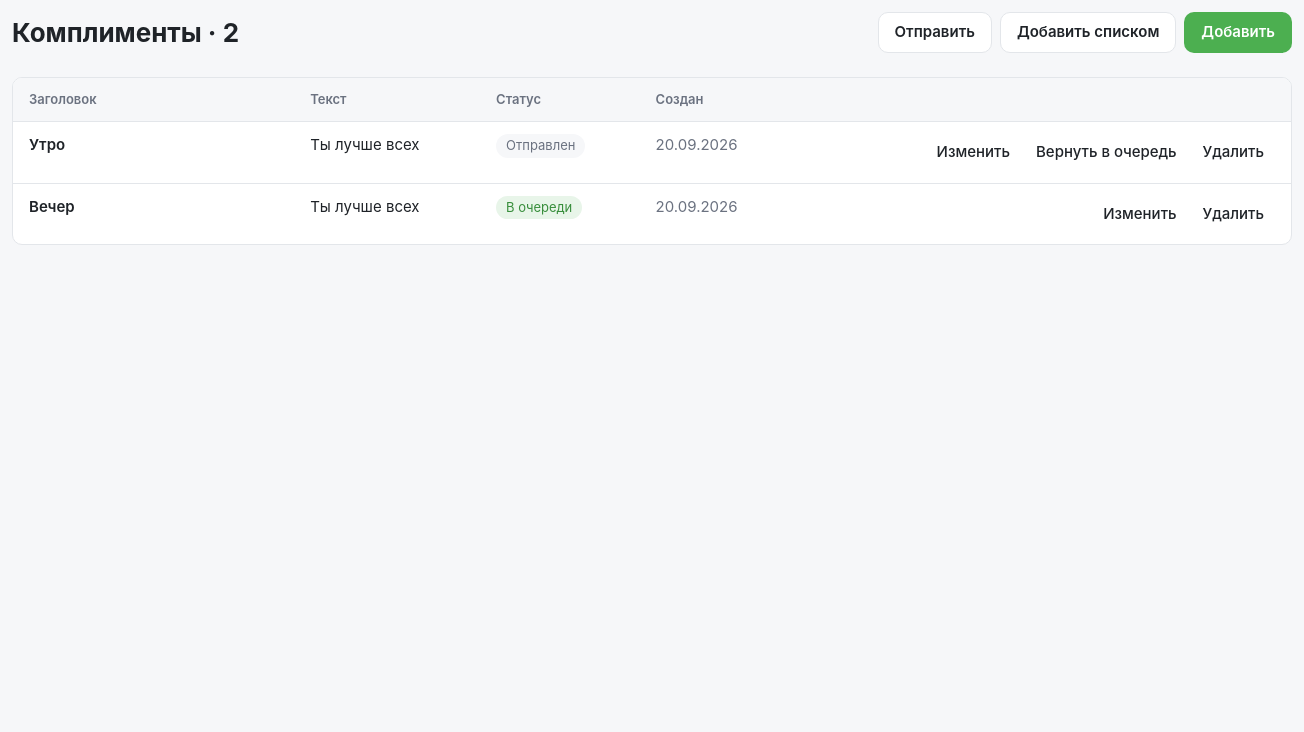
ComplimentsPage › возвращает отправленный комплимент в очередь
What coordinates should you click on to do the following:
click the button with aria-label "Вернуть в очередь «Утро»"
I would click on:
 (1106, 152)
Its box is left=1025, top=134, right=1188, bottom=170.
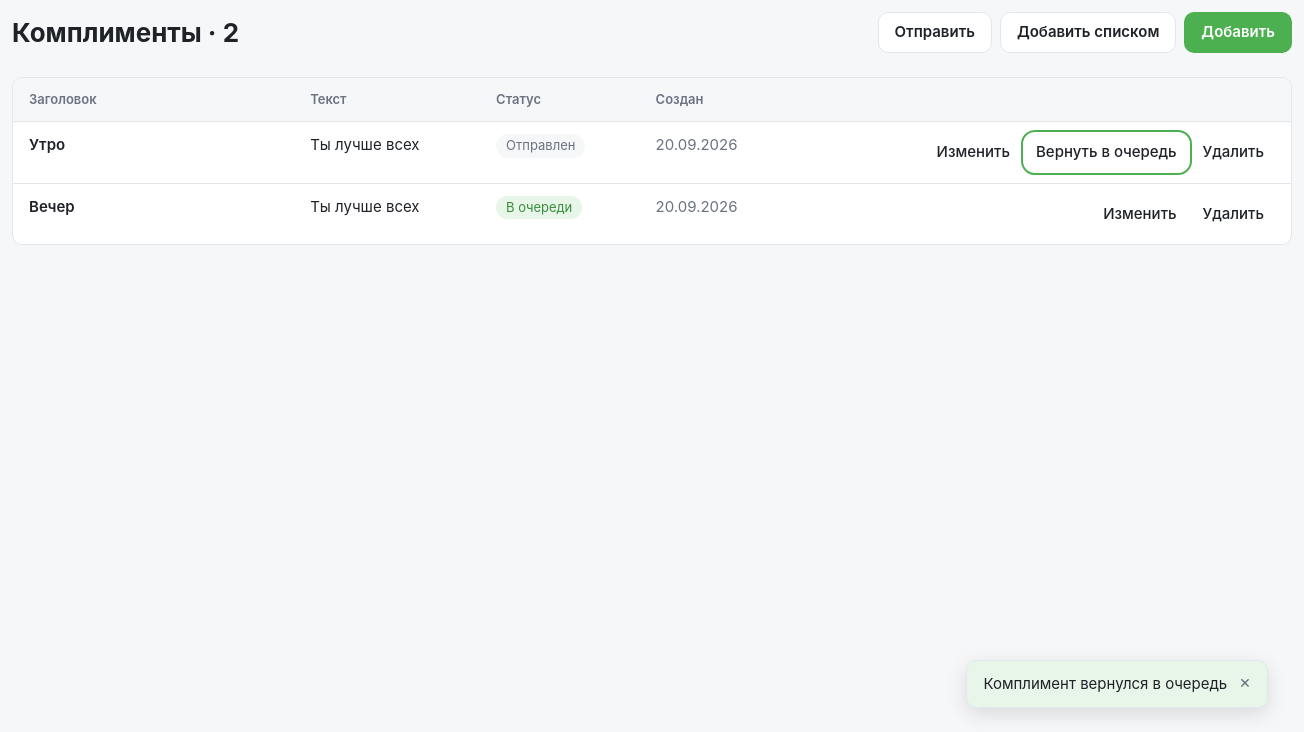
Expected: the text "Комплимент вернулся в очередь" is shown, left=984, top=672, right=1227, bottom=695
